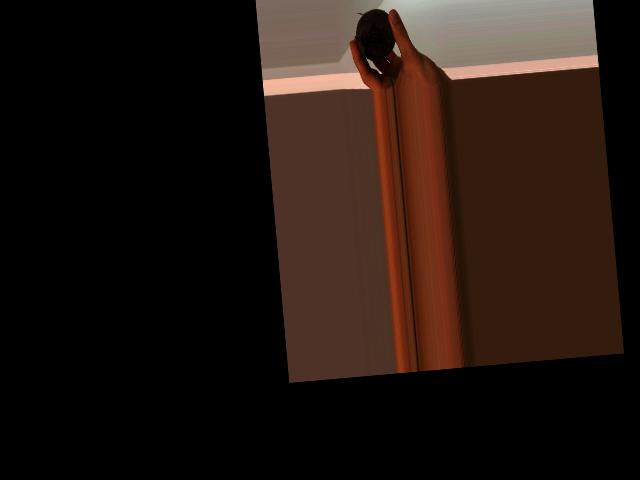beet: (352, 6, 400, 91)
